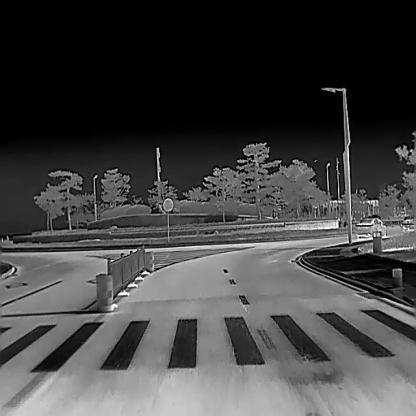car: (355, 218, 387, 238), (400, 215, 414, 231)
